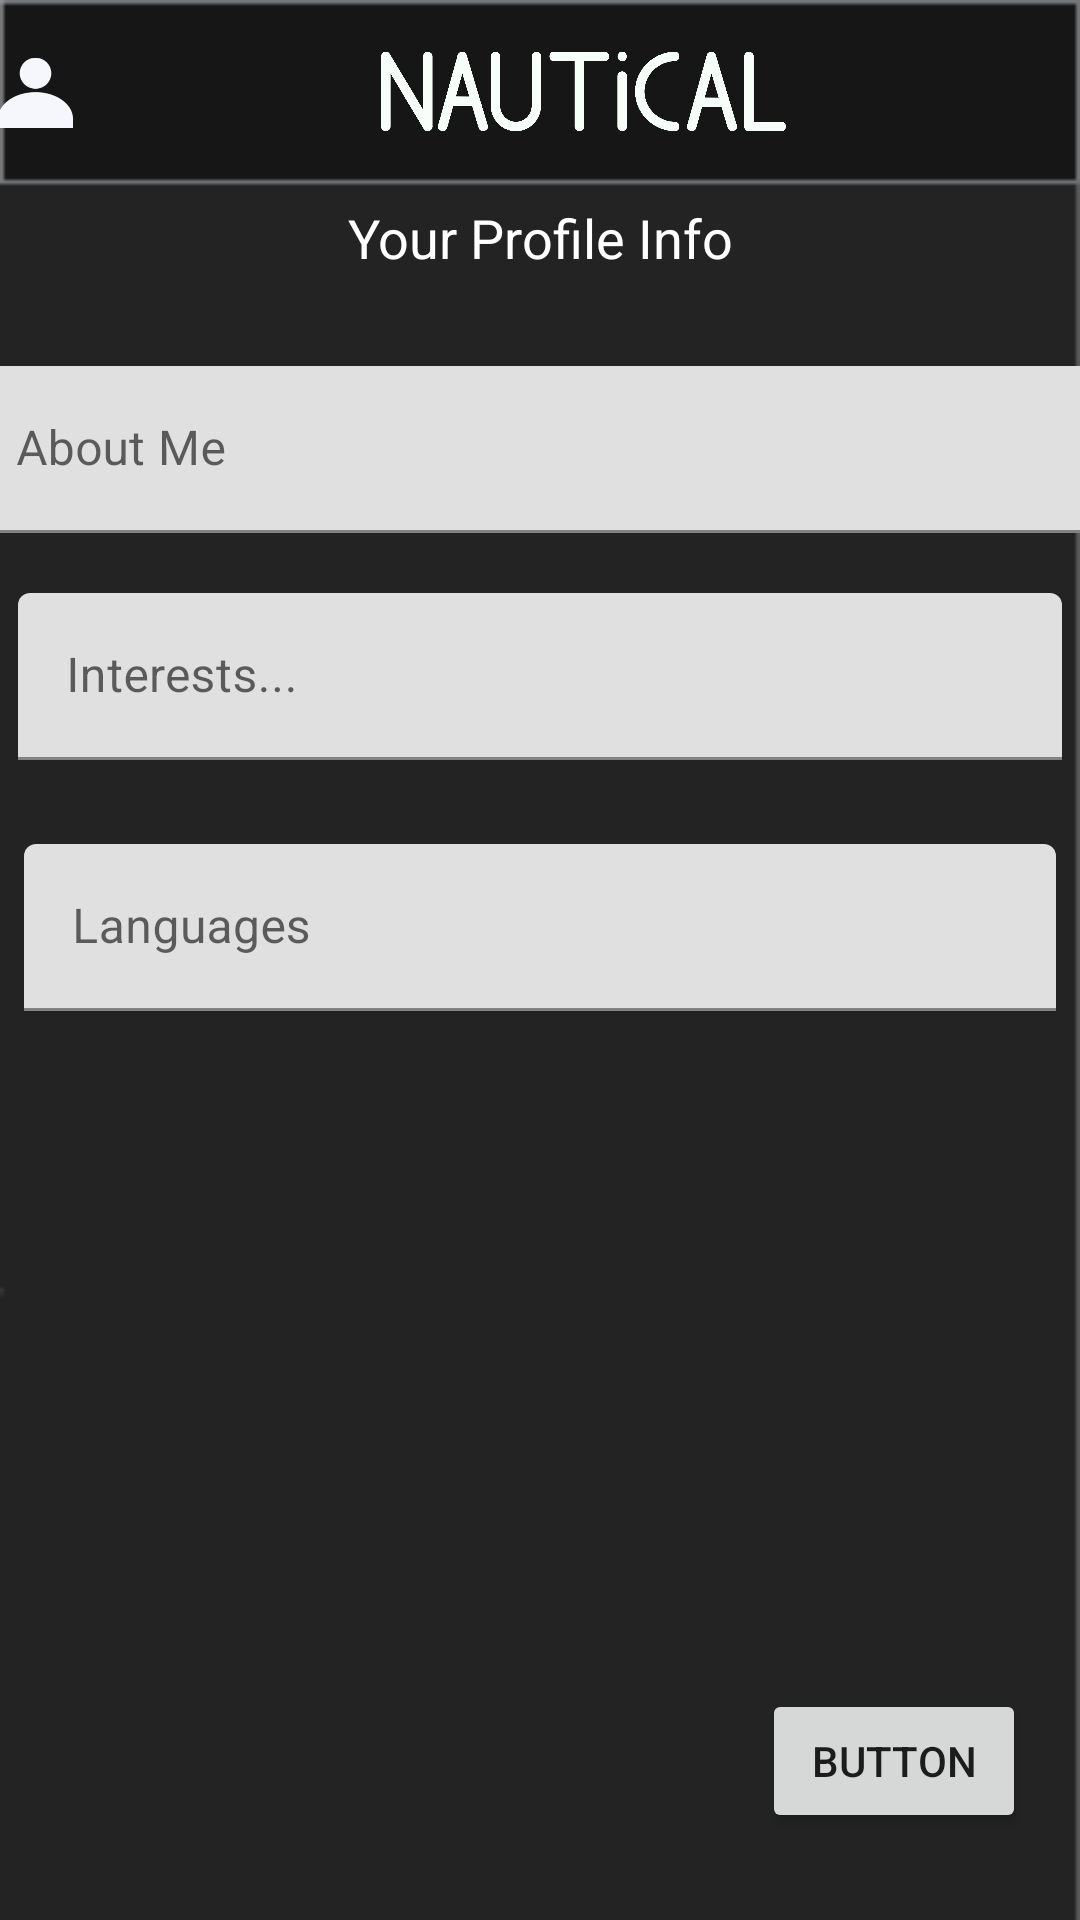

Screen size 1080*1920. Icon name, then its box in pixels as (x1=x1, y1=y1, x2=x2, y2=y2):
profile: (x1=0, y1=33, x2=73, y2=153)
